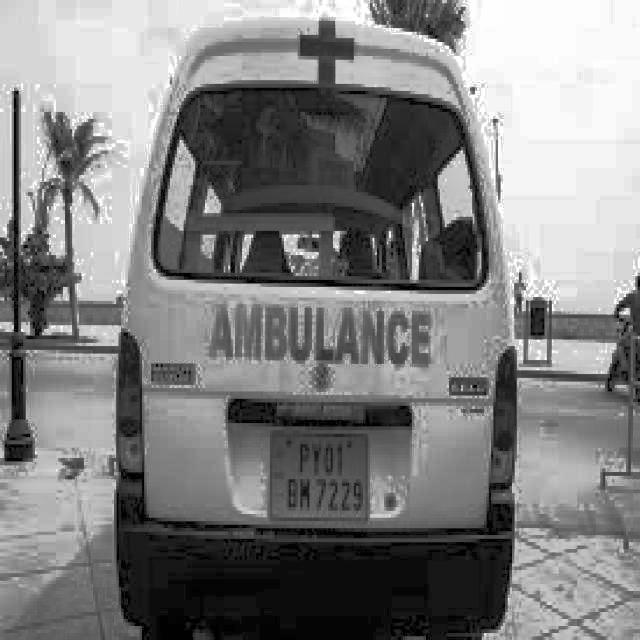LCV: (117, 16, 515, 539)
